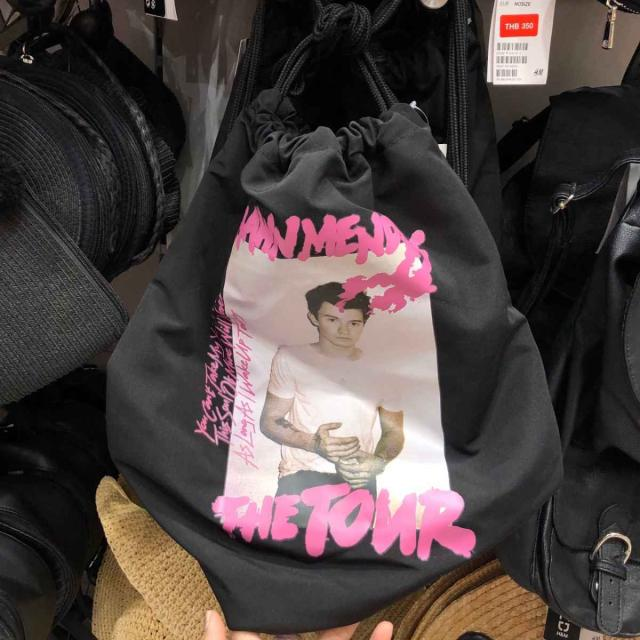Handbag: (100, 81, 558, 640)
